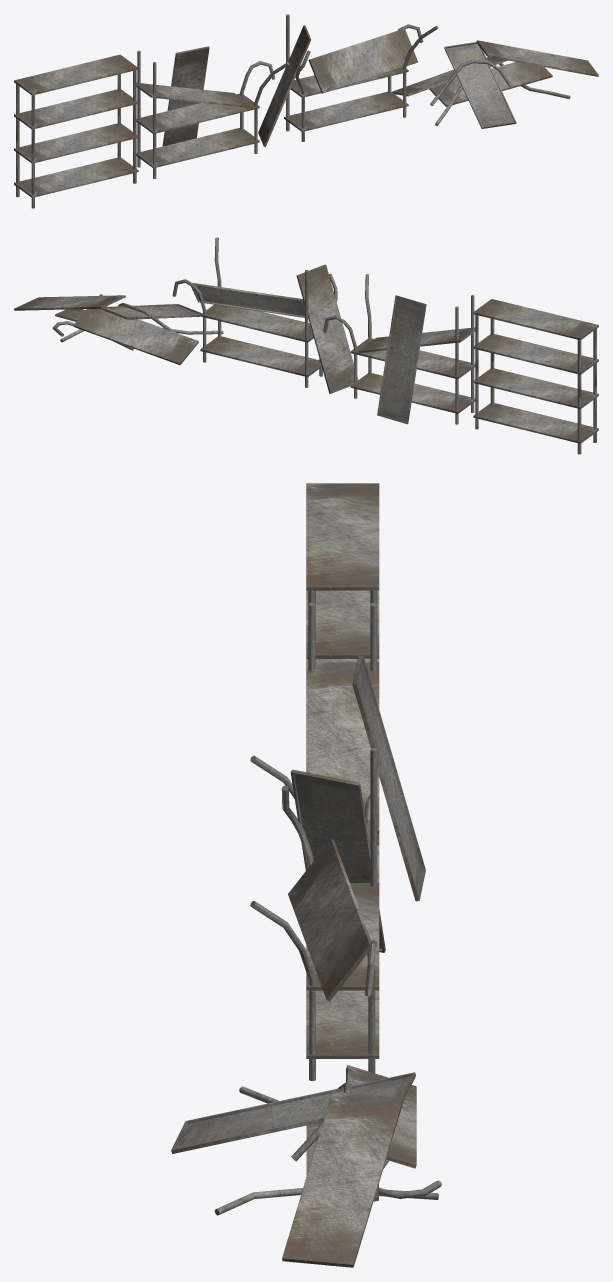
The model's file is Shelves.FBX.
The picture shows the model from 3 angles, top to bottom: view 1: azimuth 30°, elevation 25°; view 2: azimuth 150°, elevation 25°; view 3: azimuth 270°, elevation 25°; orthographic projection. The views are drawn at different scales.
Visible parts, largest first — view 1: Shelf_Standard, Shelf_Damaged_02, Shelf_Damaged, Shelf_Destroyed; view 2: Shelf_Damaged_02, Shelf_Standard, Shelf_Damaged, Shelf_Destroyed; view 3: Shelf_Damaged_02, Shelf_Destroyed, Shelf_Damaged, Shelf_Standard.
Boxes of the visible parts, x1,y1,x2,y2 form: Shelf_Standard: [14, 54, 138, 208]; Shelf_Damaged_02: [258, 14, 438, 147]; Shelf_Damaged: [136, 46, 289, 178]; Shelf_Destroyed: [392, 40, 598, 128]; Shelf_Damaged_02: [172, 237, 358, 393]; Shelf_Standard: [473, 299, 598, 454]; Shelf_Damaged: [323, 274, 475, 424]; Shelf_Destroyed: [14, 294, 223, 365]; Shelf_Damaged_02: [250, 748, 385, 1081]; Shelf_Destroyed: [171, 1065, 441, 1267]; Shelf_Damaged: [250, 603, 425, 901]; Shelf_Standard: [306, 483, 379, 662].
Bounding box in the file's own units: 402 × 78.47 × 83.
